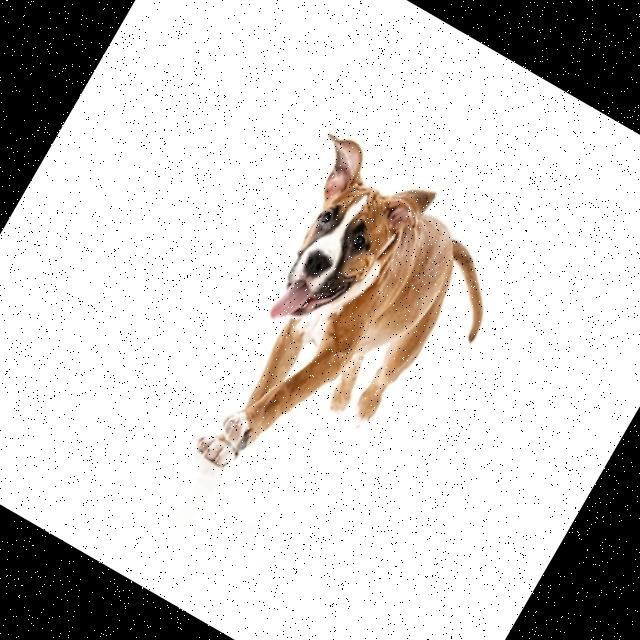Dog: (158, 127, 530, 544)
